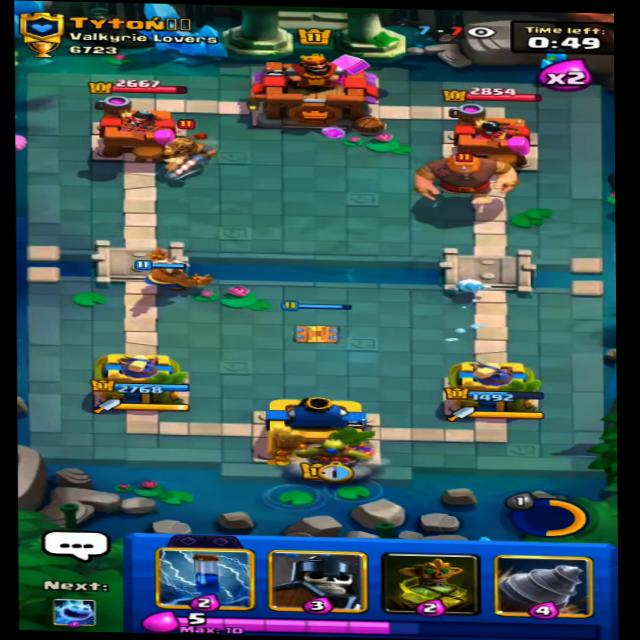Giant: (404, 146, 518, 200)
Prince: (154, 123, 219, 175)
